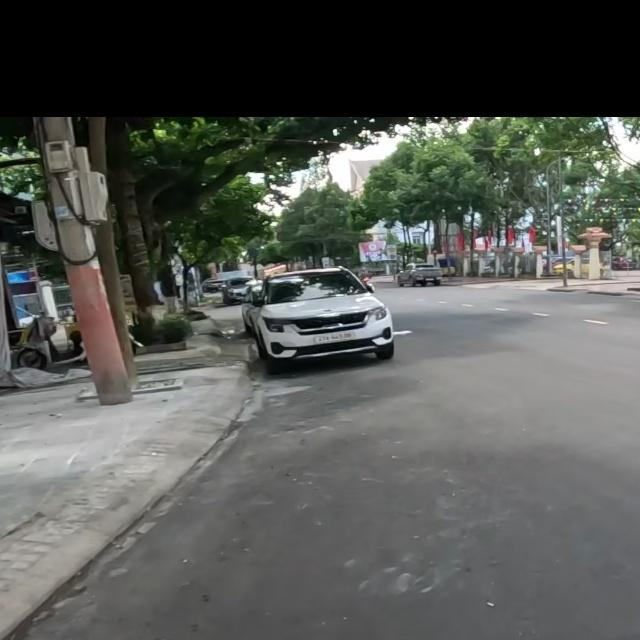license-plate: (312, 332, 355, 345)
